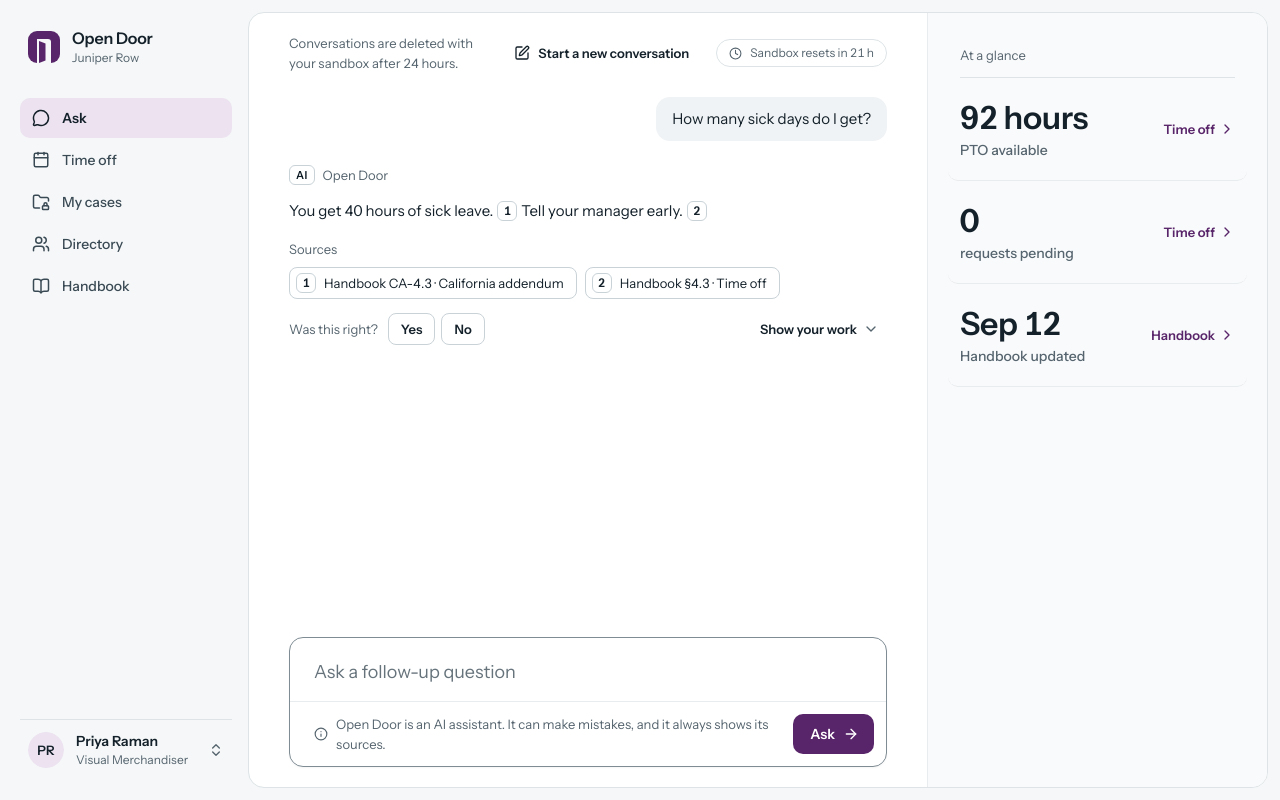
it: the budget › takes the banner from a send the API refused with a budget problem, and says it once
The width and height of the screenshot is (1280, 800).
Step 1. Type "More" into the text box named "Ask Open Door" → (588, 666), box [290,638,886,694]
Then press Enter
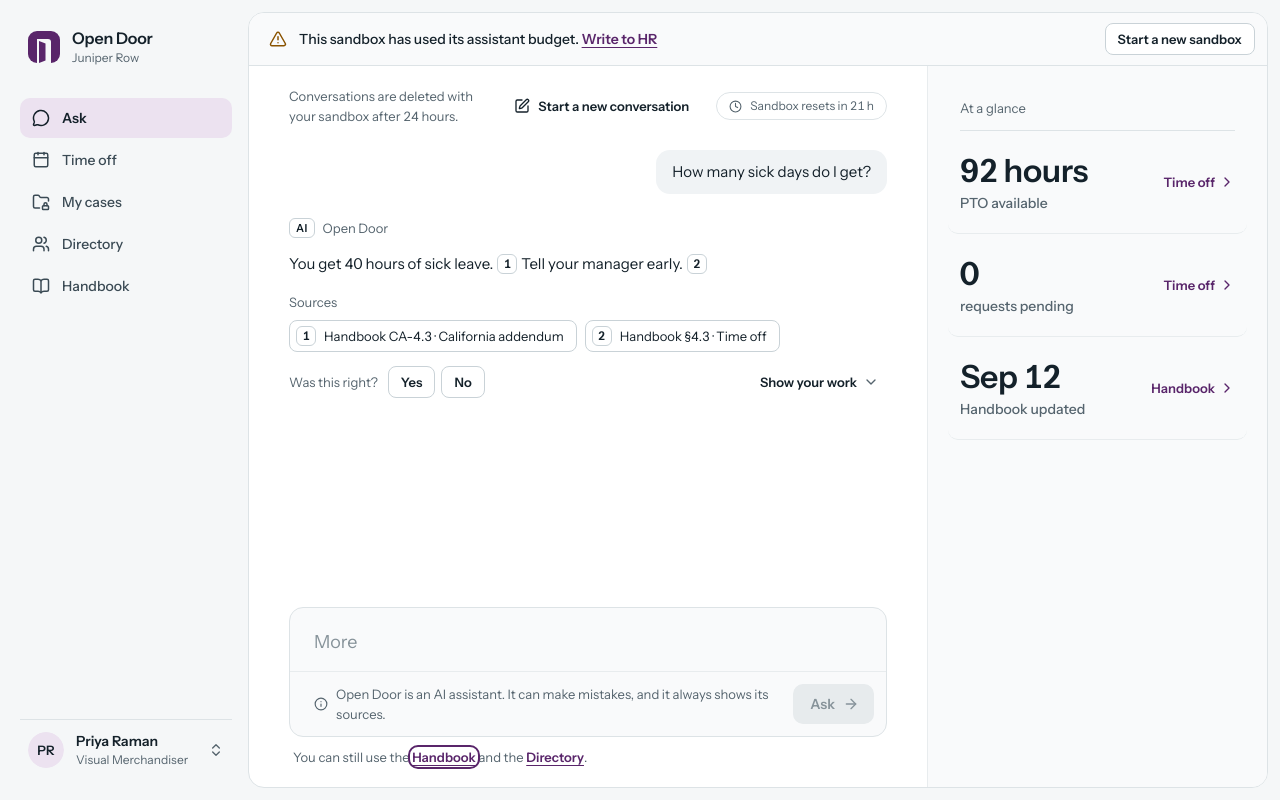
Expected: the button "Start a new sandbox" is shown, [1105,23,1255,55]
Expected: the text box named "Ask Open Door" is disabled, [290,608,886,664]
Expected: the text "This sandbox has used its assistant budget." is shown once, [299,30,657,48]
